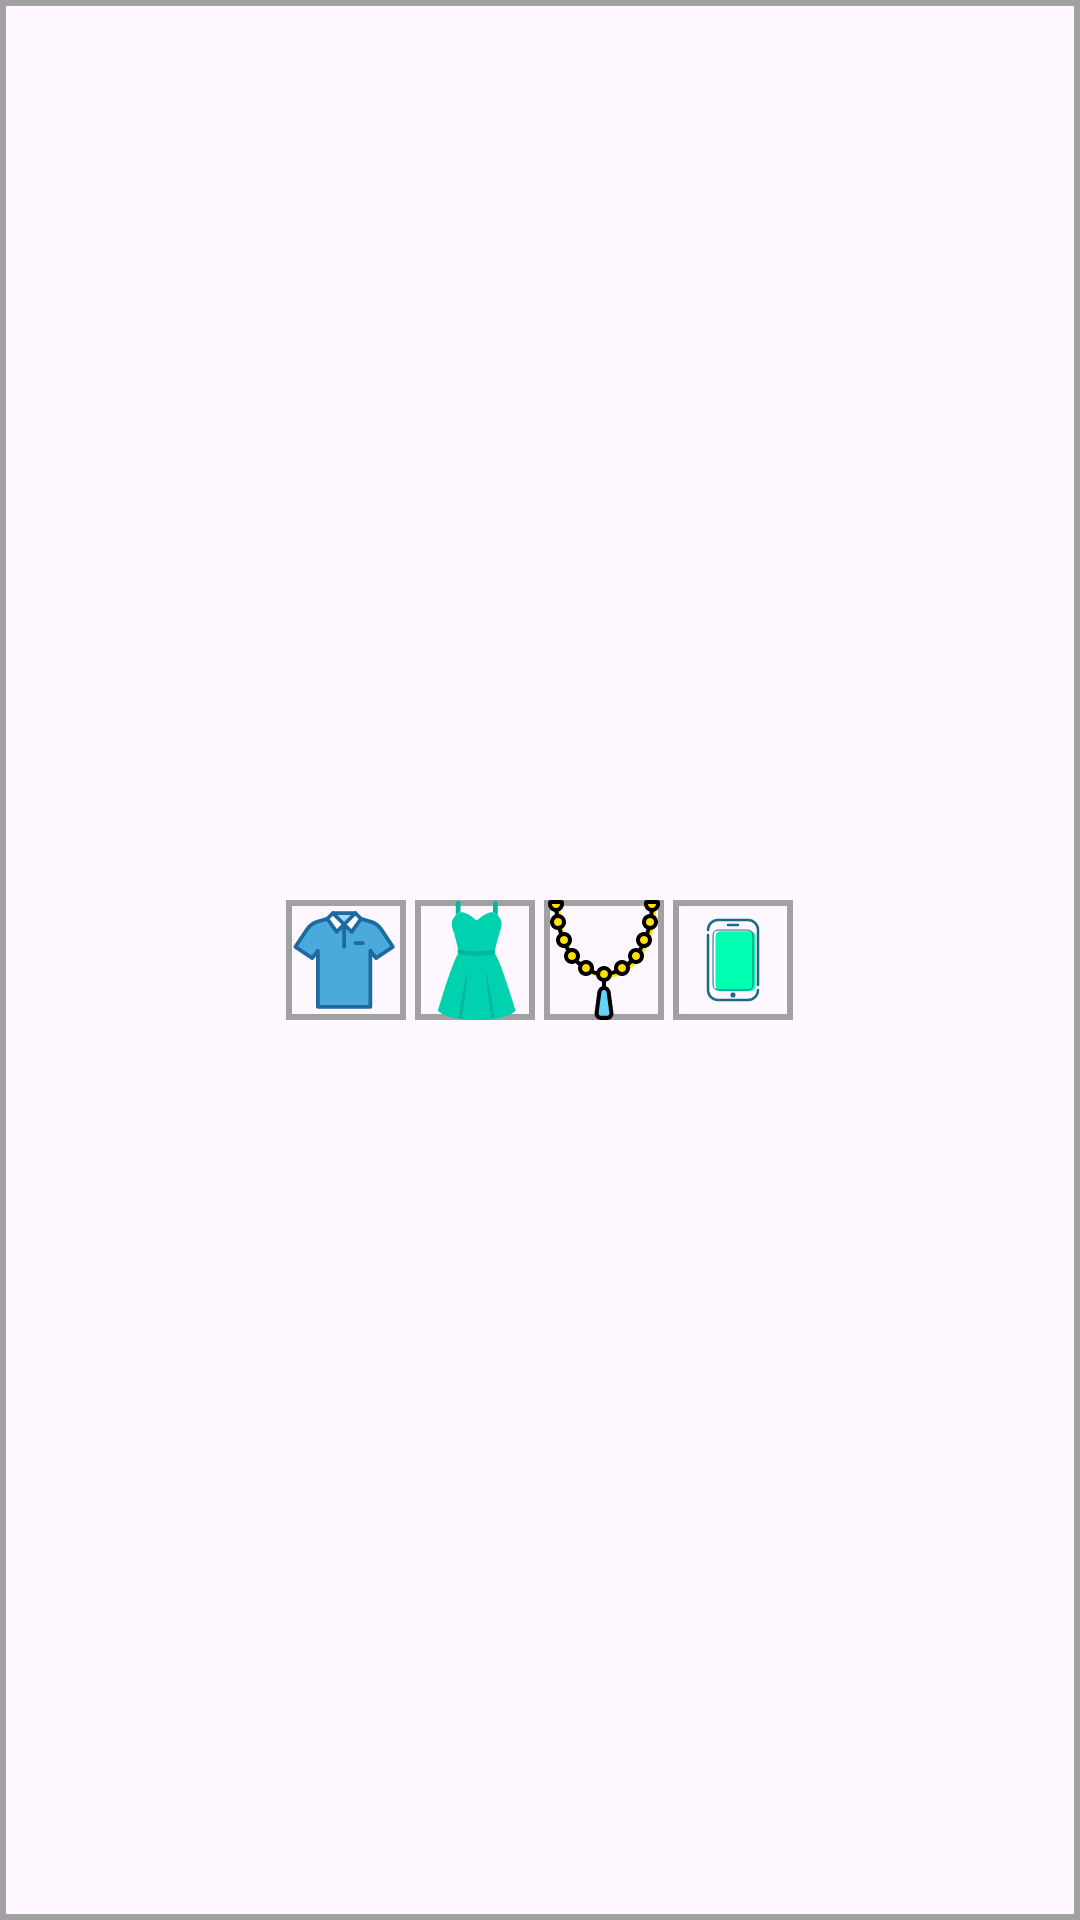

Where icons sit on this 1080*1920 app screen, as bbox(x1, y1, x2, y2):
dress: bbox(415, 900, 535, 1020)
electronic: bbox(673, 900, 793, 1020)
jewelry: bbox(544, 900, 664, 1020)
shirt: bbox(286, 900, 406, 1020)
